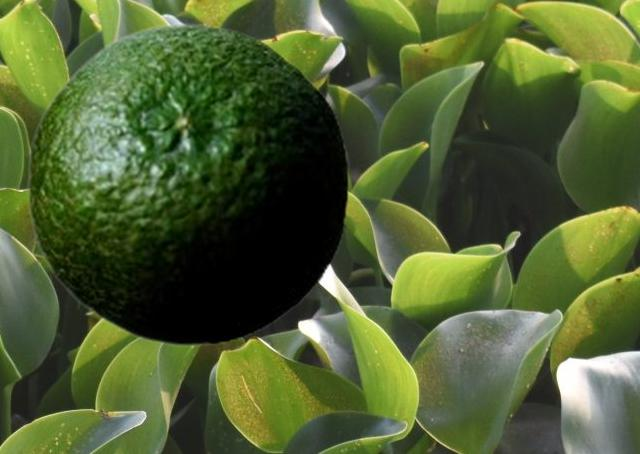calamansi: (26, 22, 348, 346)
